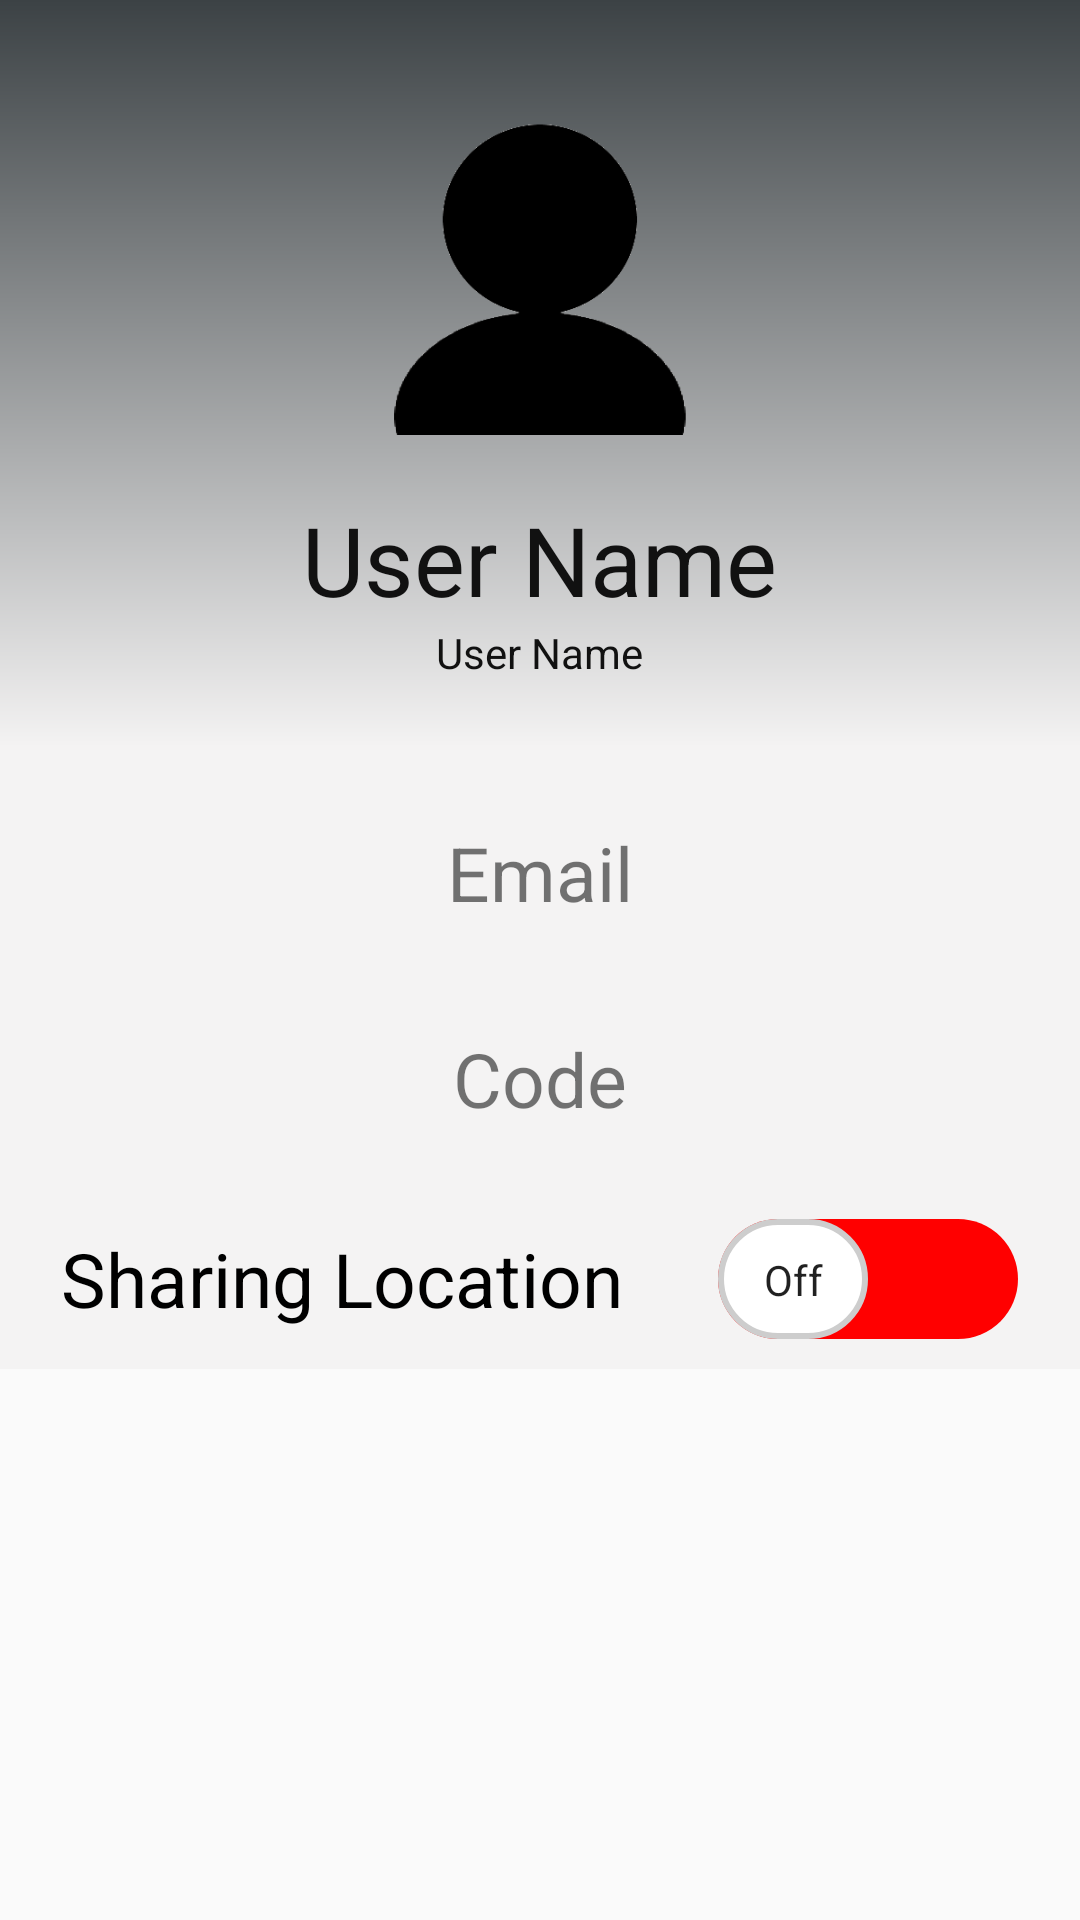

Named icons in this screenshot (1080 × 1920) and their centers, point (x, y):
defaultprofile: point (539, 255)
